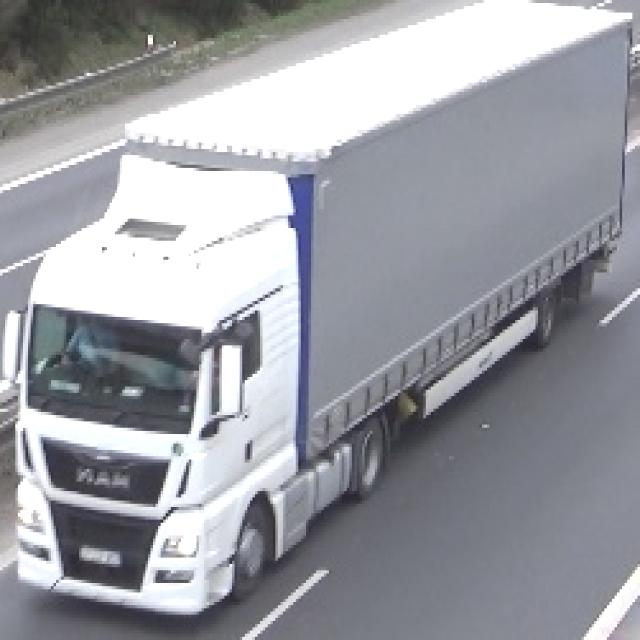TRUCK: (15, 4, 636, 612)
